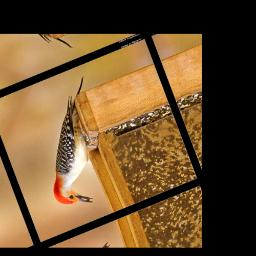Woodpecker: (18, 76, 126, 215)
